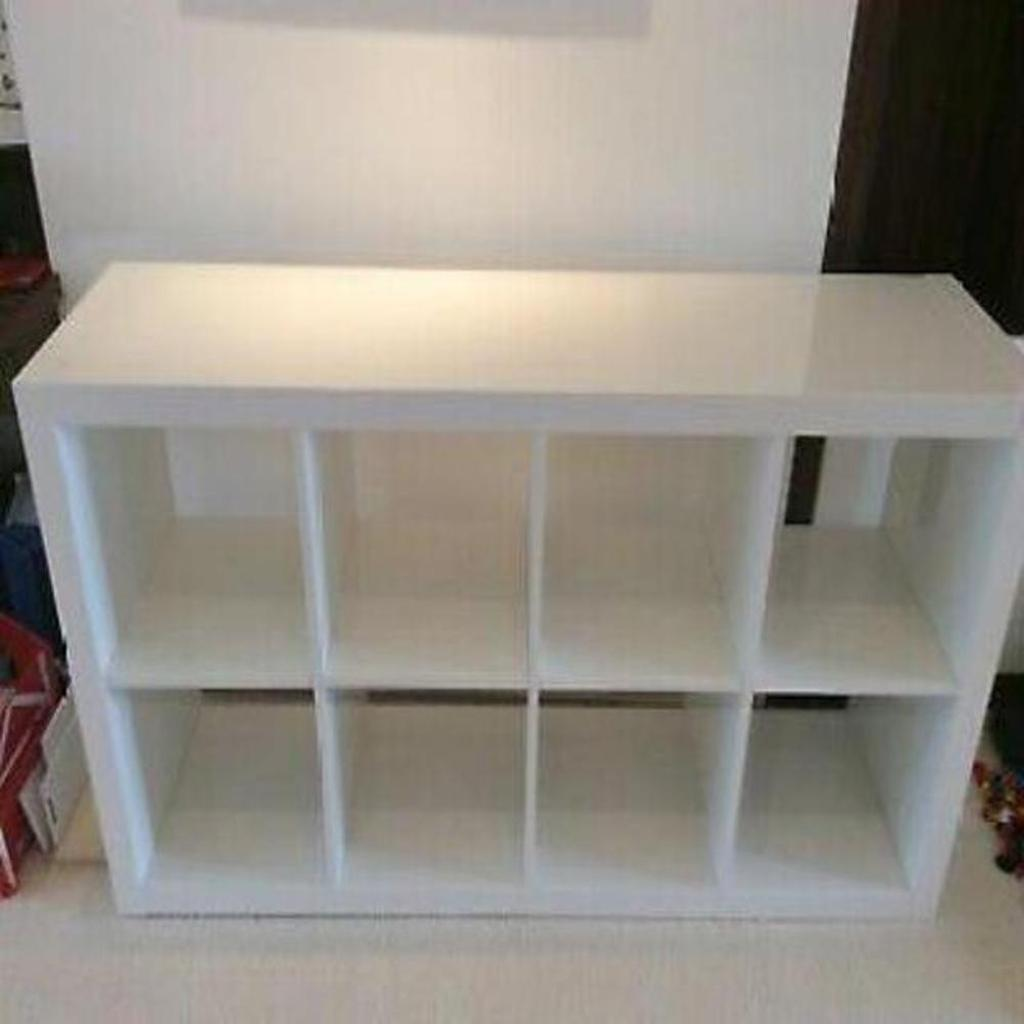lamp: (11, 257, 1023, 922)
